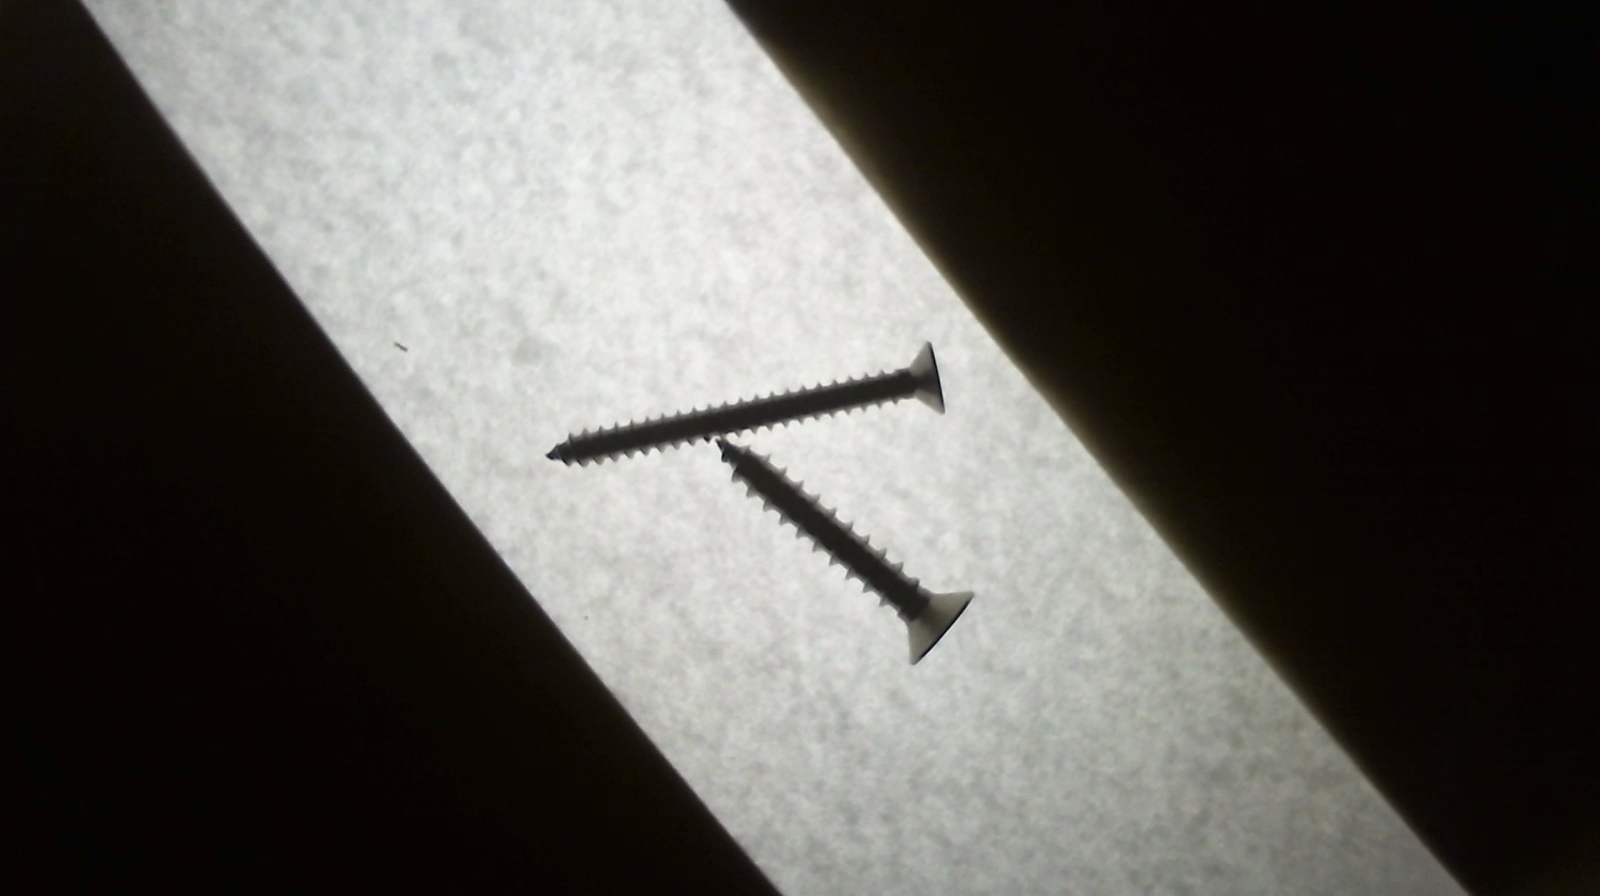S001: (716, 436, 973, 665)
S002: (542, 342, 949, 471)
